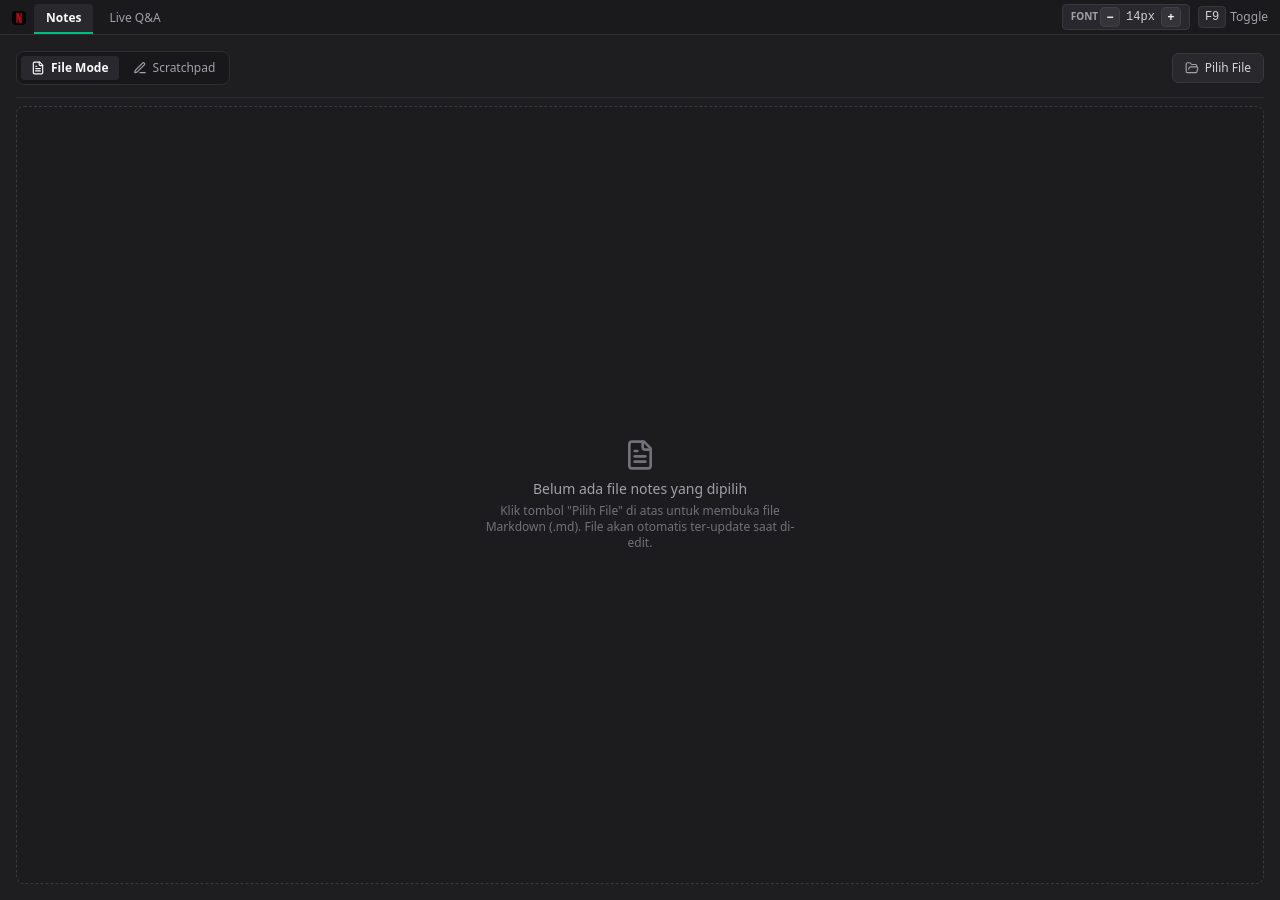
it: App Component › switches tabs manually between Notes and Live Q&A when qaAvailable is true
Expected: the text "14px" is shown, 1126,9 -> 1155,25
Click the tab "Live Q&A" at point(135, 19), box 98,4 -> 173,34
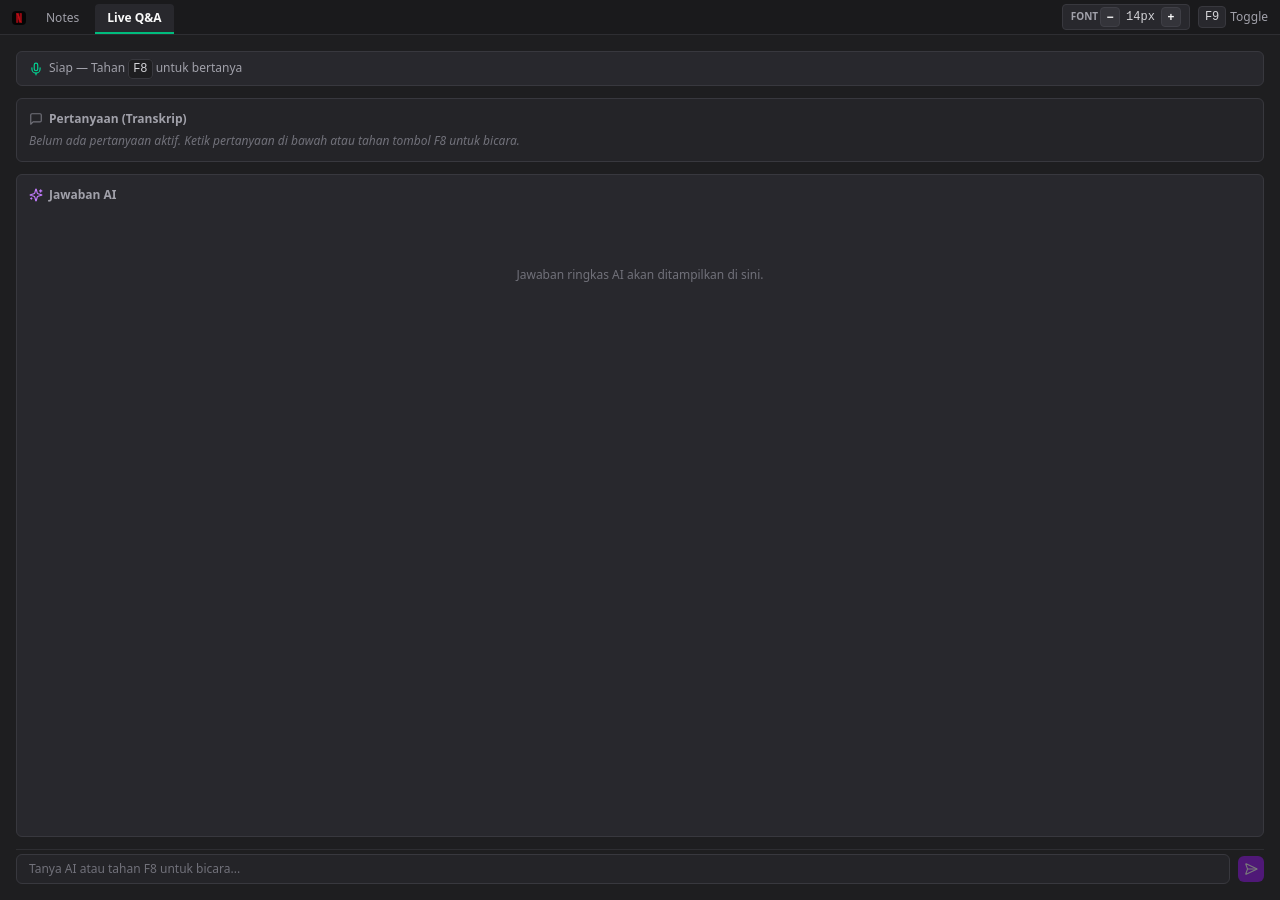
Now the panel named "live q&a" is shown
Now the text "Siap — Tahan F8 untuk bertanya" is shown, box 49,60 -> 242,77
Click the tab "Notes" at point(63, 19), box 34,4 -> 91,34
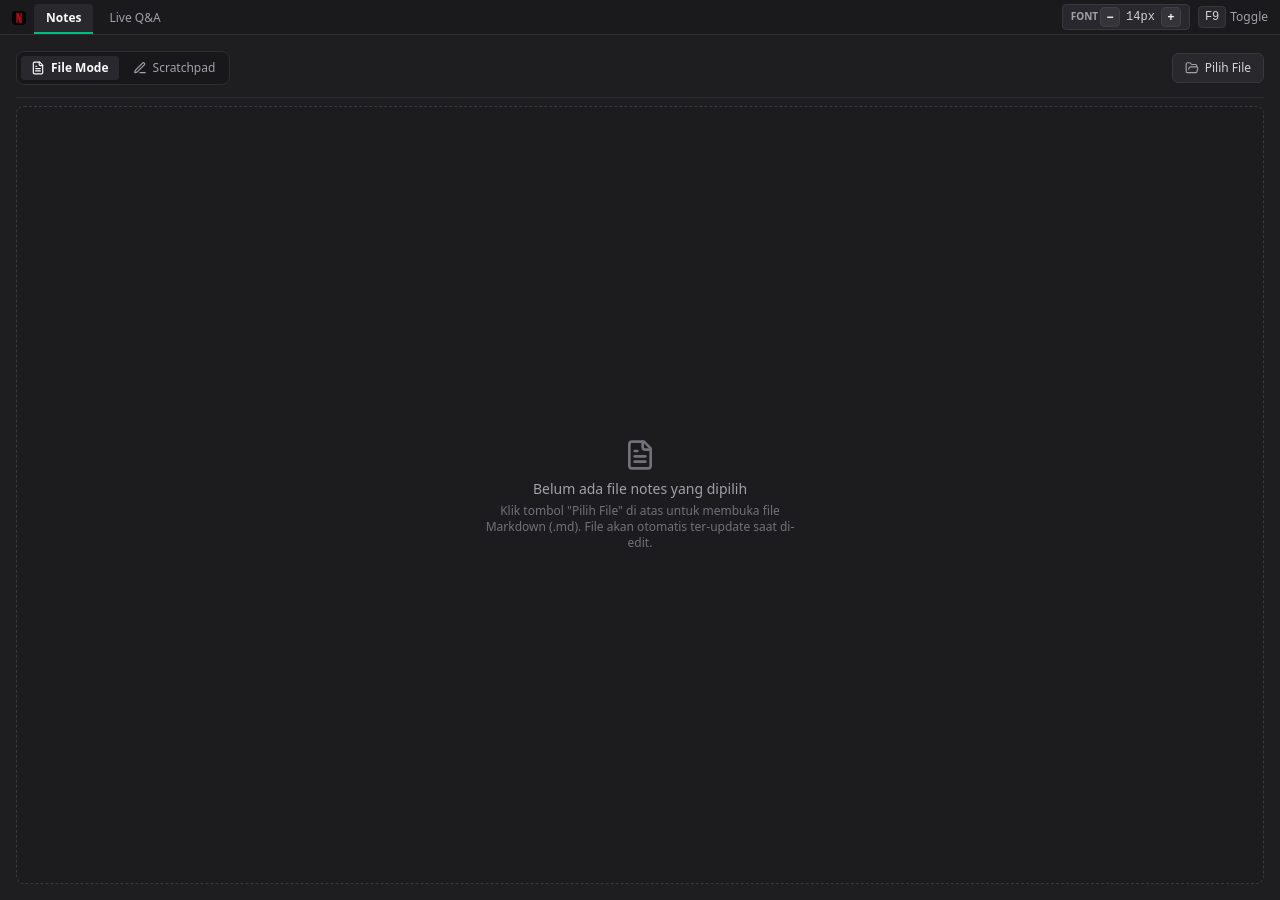
Now the panel "notes" is shown
Now the button "File Mode" is shown, box 21,56 -> 119,80
